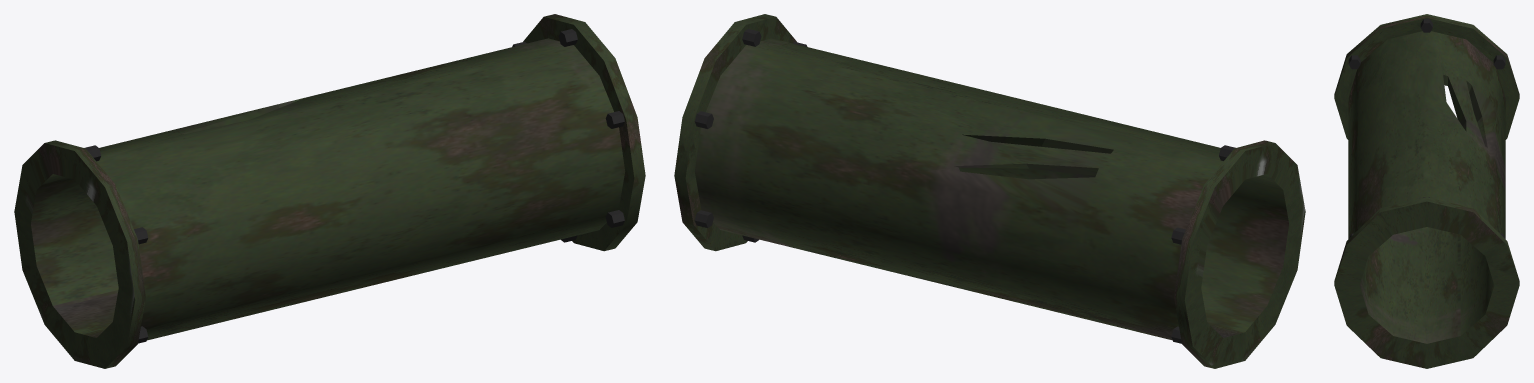
The model's file is Pipe_Broken 1.fbx.
The picture shows the model from 3 angles, left to right: view 1: azimuth 30°, elevation 25°; view 2: azimuth 150°, elevation 25°; view 3: azimuth 270°, elevation 25°; orthographic projection. The views are drawn at different scales.
Visible parts, largest first — view 1: Broken; view 2: Broken; view 3: Broken.
Boxes of the visible parts, x1,y1,x2,y2 form: Broken: [14, 14, 645, 368]; Broken: [674, 14, 1305, 368]; Broken: [1334, 14, 1519, 368].
Bounding box in the file's own units: 6 × 2.45 × 2.46.
1 material, 1 textured.
